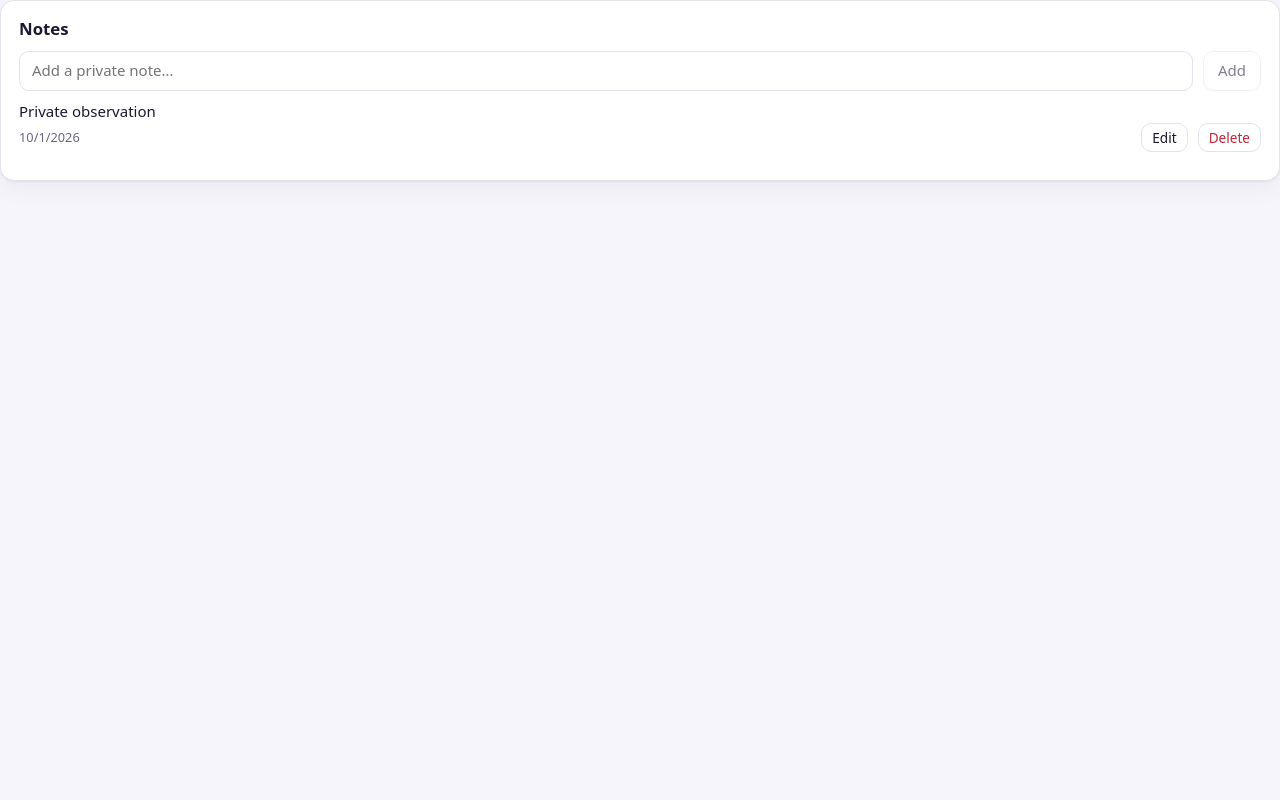
Scenario: Private student notes › edits within the student scope and invalidates student and insight data
Step 1. Click the button with aria-label "Edit note: Private observation" → (1164, 138), box [1141,123,1188,152]
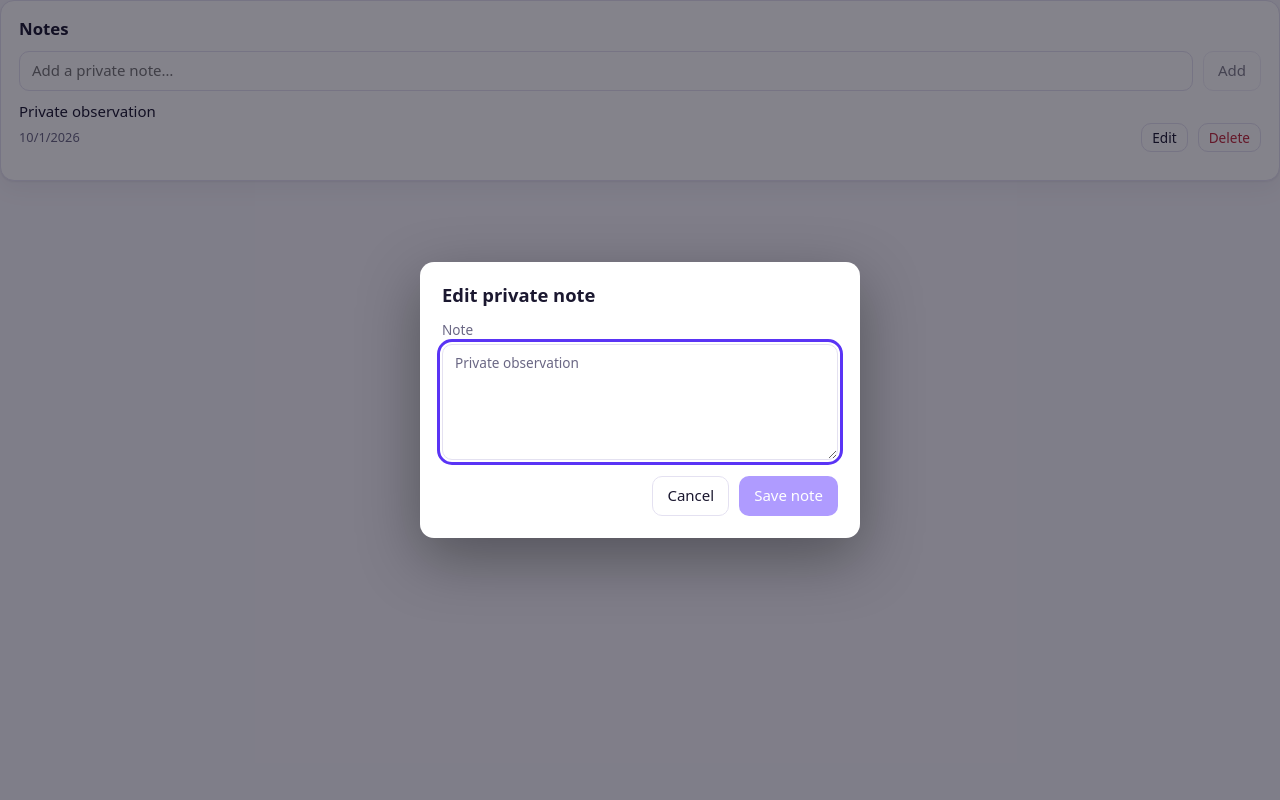
Step 2. Replace the text in the text box labelled "Note" with "  Revised observation  " → (640, 402), box [442,344,838,460]
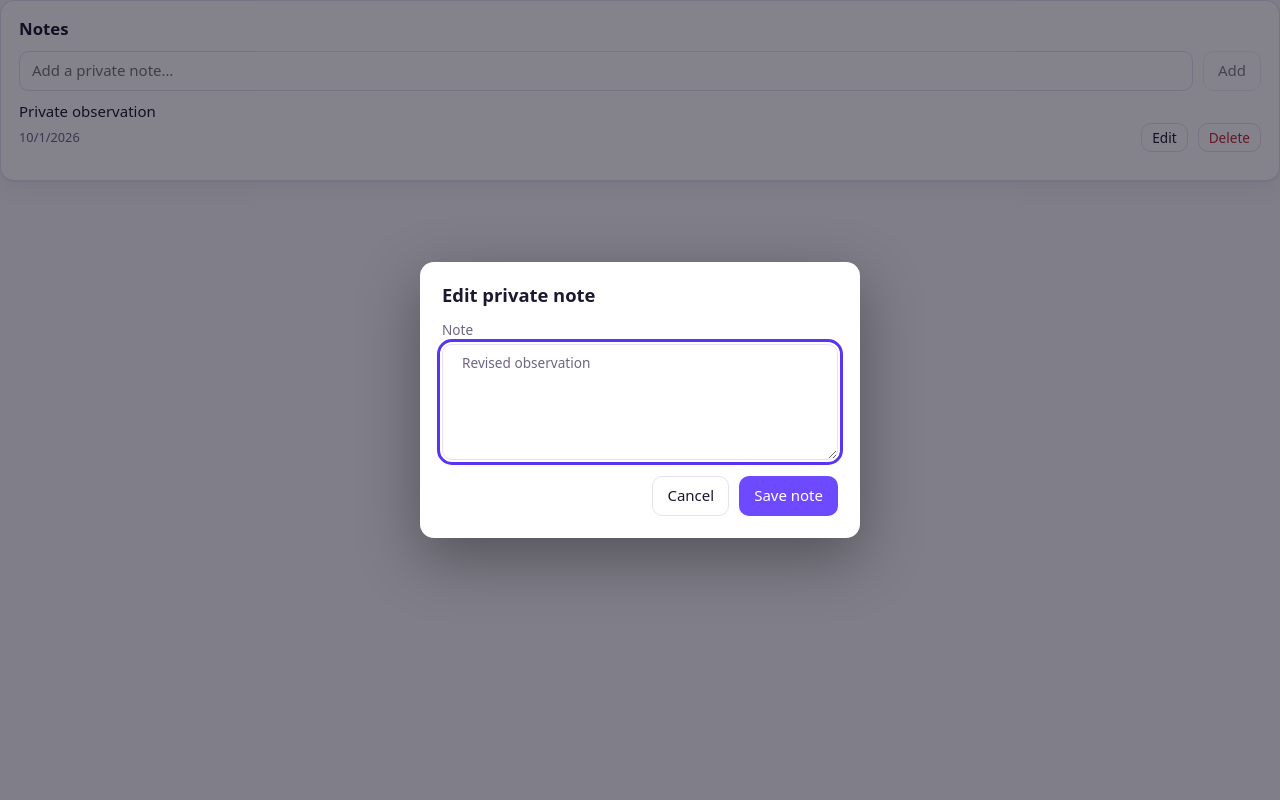
Step 3. Click the button "Save note" → (789, 496), box [739,476,838,516]
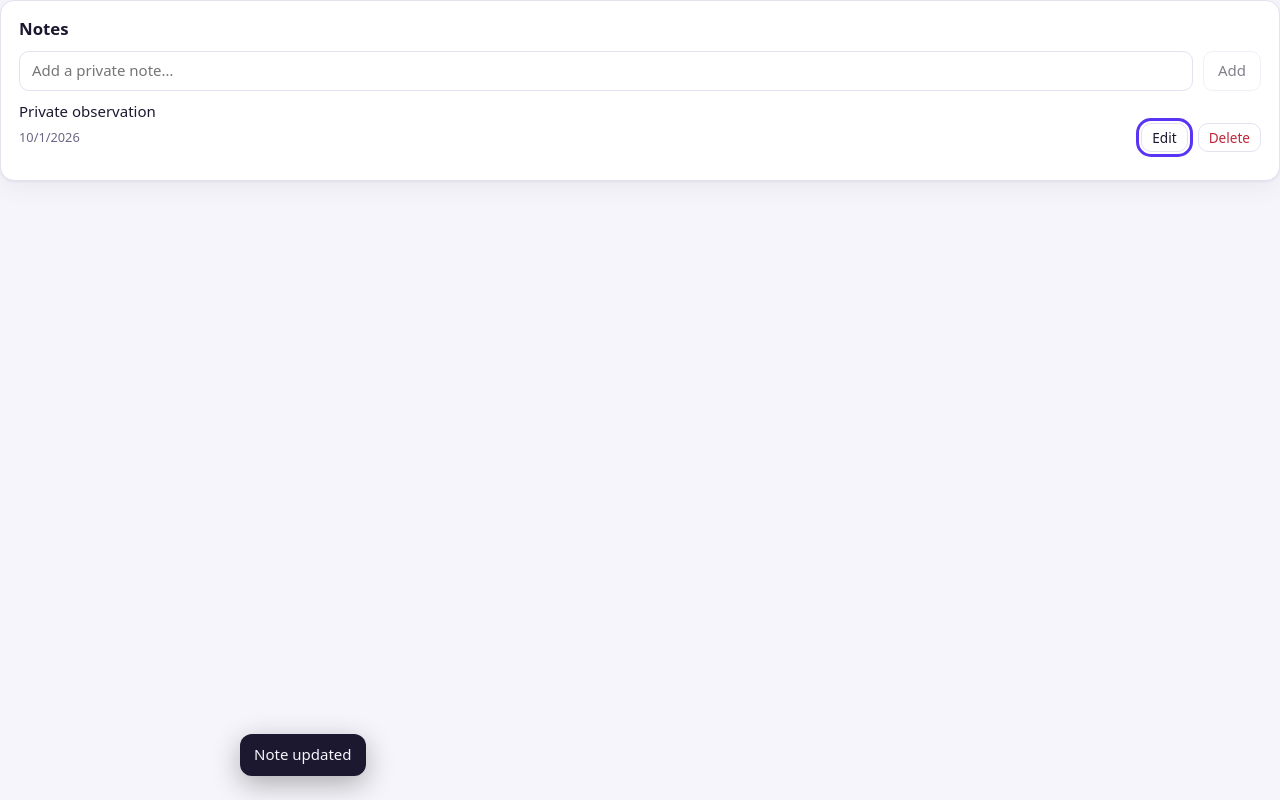
Now the dialog is gone
